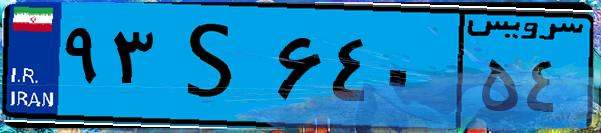0: (385, 28, 445, 110)
3: (110, 28, 158, 98)
4: (330, 28, 385, 110), (525, 38, 570, 115)
5: (475, 38, 525, 113)
6: (270, 28, 330, 110)
9: (57, 26, 110, 100)
S: (158, 12, 270, 120)
